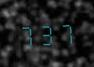seven: (18, 21, 36, 47), (57, 19, 75, 45)
three: (38, 20, 56, 46)
